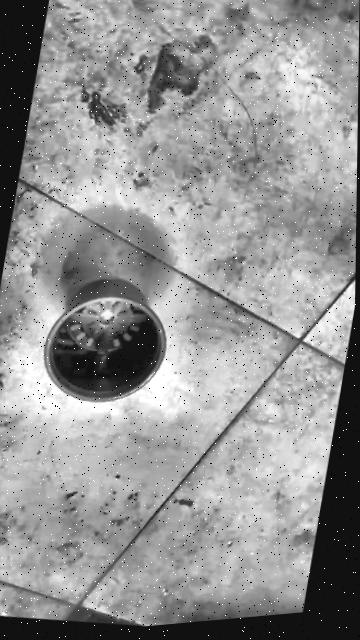pot: (34, 264, 176, 416)
